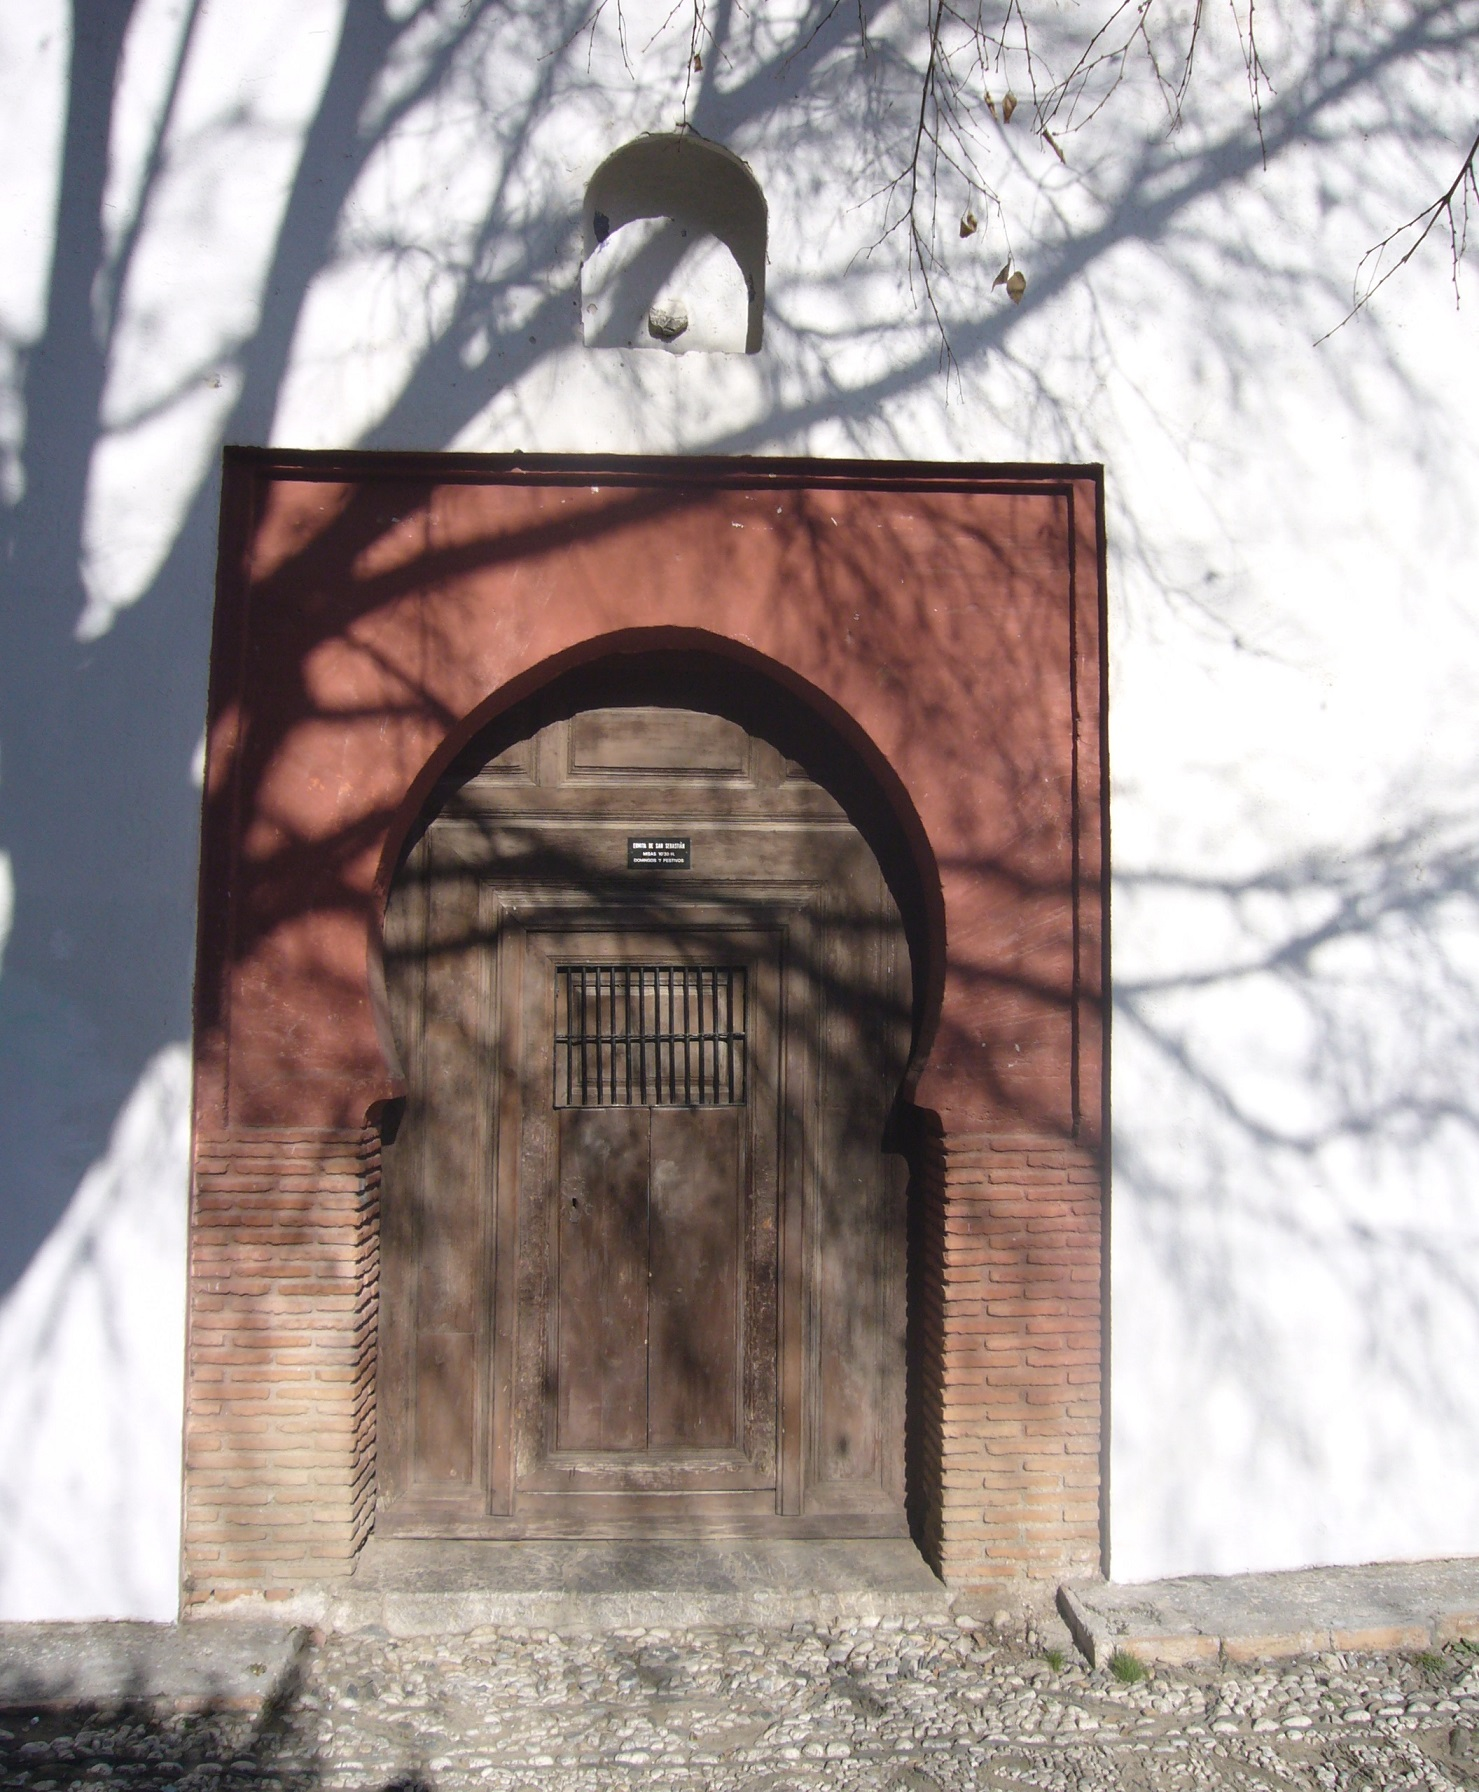arco-herradura: (321, 577, 978, 1171)
